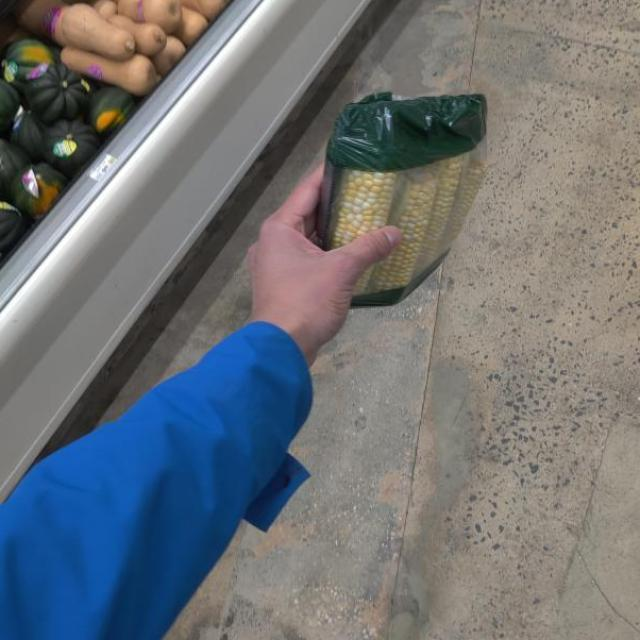Corn: (320, 86, 487, 301)
